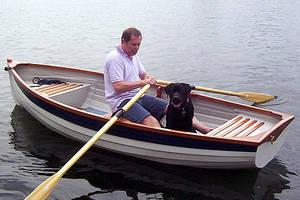person: (104, 28, 215, 134)
